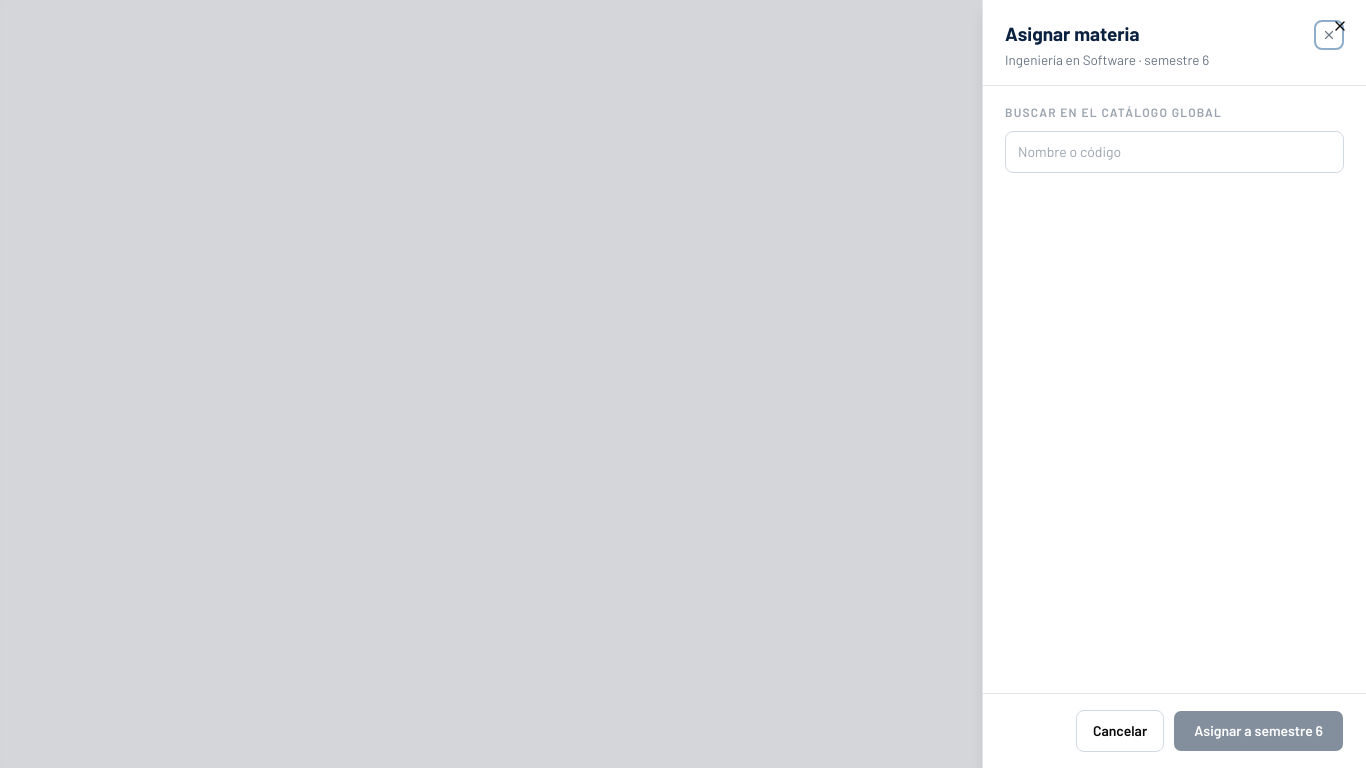
Test: AssignCoursePanel › shows the shared-course amber warning for a course used in another program
The width and height of the screenshot is (1366, 768).
Type "base de datos" into the field with placeholder "Nombre o código". click: point(1174, 152)
box: 1005,131 -> 1344,173
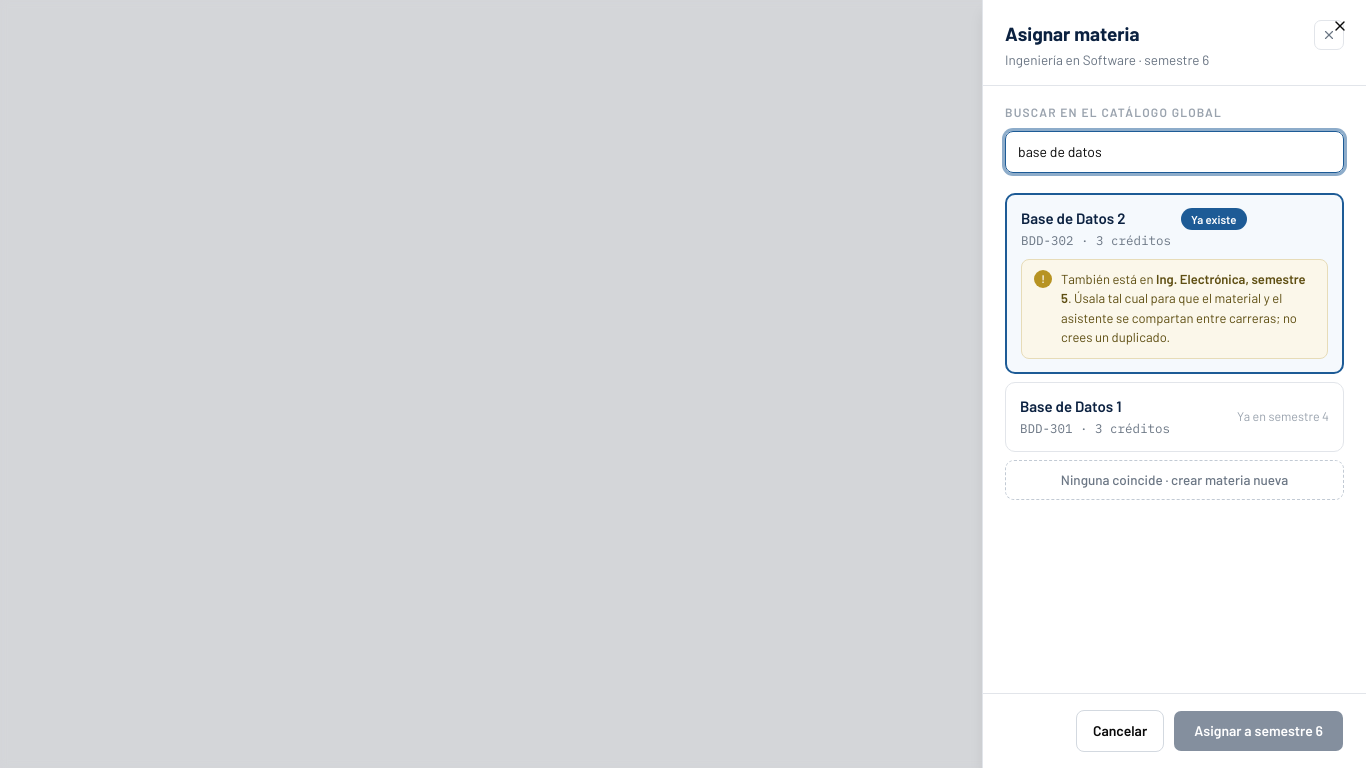
Now the text "Ya existe" is shown, box 1181,208 -> 1247,230
Now the text "También está en" is shown, box 1061,271 -> 1154,287
Now the text "Ing. Electrónica, semestre 5" is shown, box 1061,271 -> 1306,306
